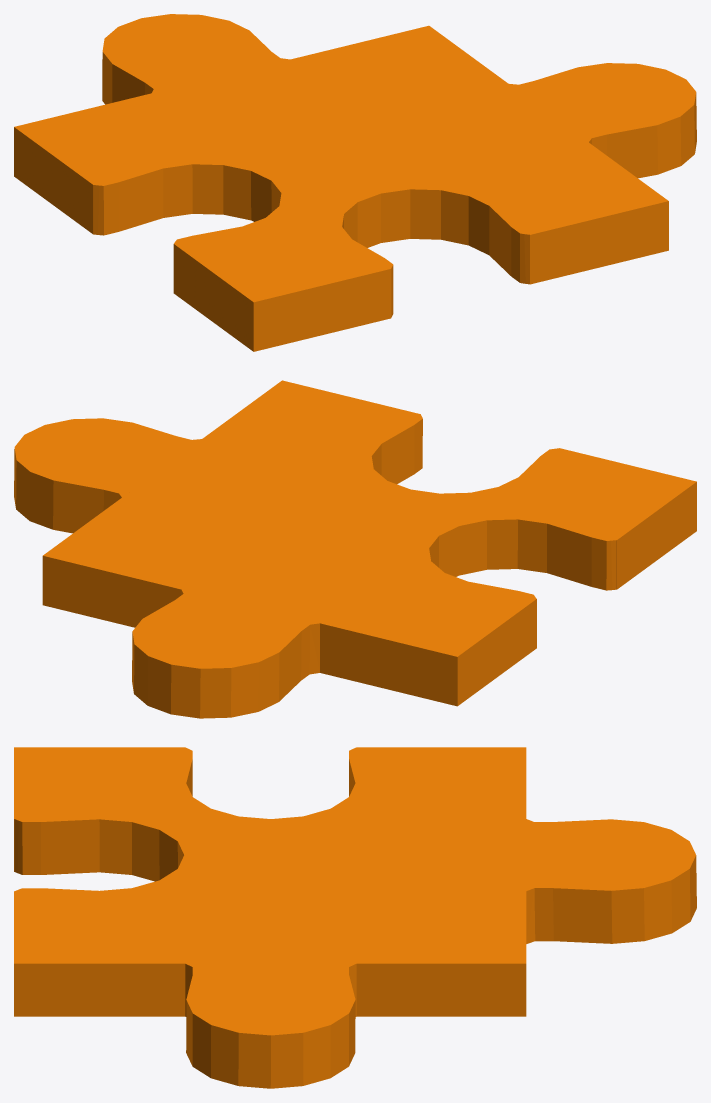
File: puzzle_piece_05.fbx
3 views of the same model, one above another, from view 1: azimuth 30°, elevation 25°; view 2: azimuth 150°, elevation 25°; view 3: azimuth 270°, elevation 25° (orthographic). The views are drawn at different scales.
Visible parts, largest first — view 1: Puzzle Piece 5; view 2: Puzzle Piece 5; view 3: Puzzle Piece 5.
Boxes of the visible parts, x1,y1,x2,y2 form: Puzzle Piece 5: (14, 14, 696, 351); Puzzle Piece 5: (14, 380, 696, 718); Puzzle Piece 5: (14, 747, 696, 1088).
Size of the model in its own units: 200 by 17.12 by 200.
